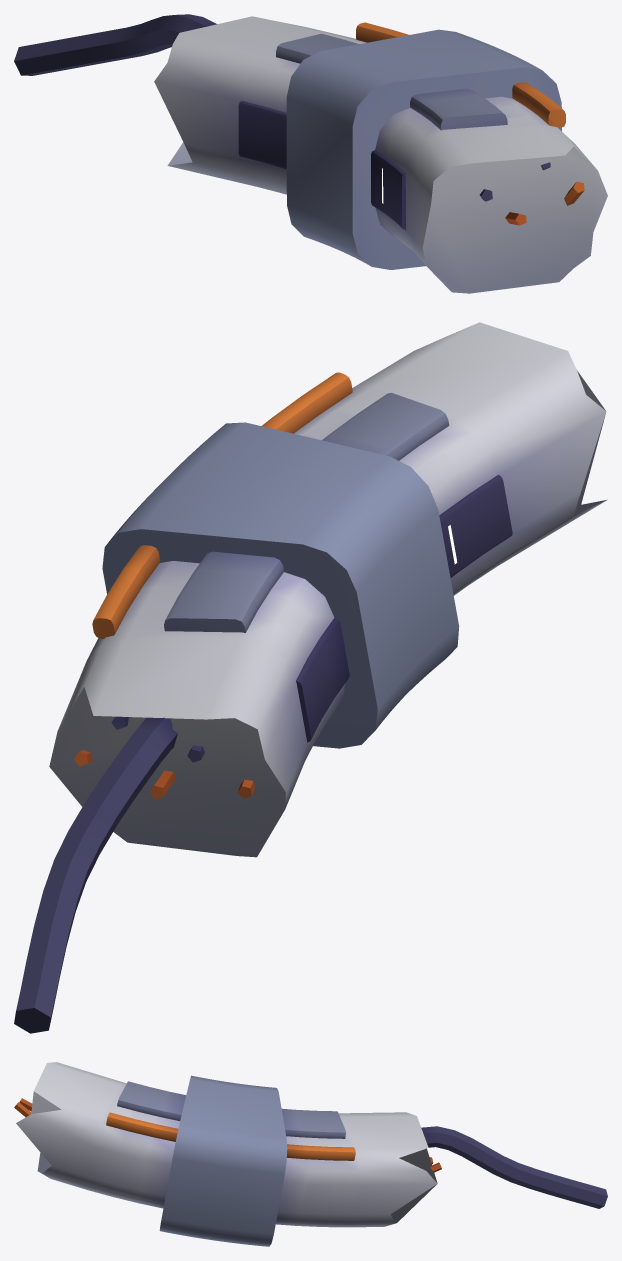
File: hub_loom_ring_fragment_b.glb
The picture shows the model from 3 angles, top to bottom: view 1: azimuth 30°, elevation 25°; view 2: azimuth 150°, elevation 25°; view 3: azimuth 270°, elevation 25°; orthographic projection. The views are drawn at different scales.
Visible parts, largest first — view 1: hub_loom_ring_fragment_b; view 2: hub_loom_ring_fragment_b; view 3: hub_loom_ring_fragment_b.
Part boxes in pixels (bbox=[...]): hub_loom_ring_fragment_b: bbox=[14, 14, 607, 293]; hub_loom_ring_fragment_b: bbox=[14, 322, 607, 1033]; hub_loom_ring_fragment_b: bbox=[14, 1062, 607, 1246].
Bounding box in the file's own units: 1.91 × 1.85 × 6.79.
